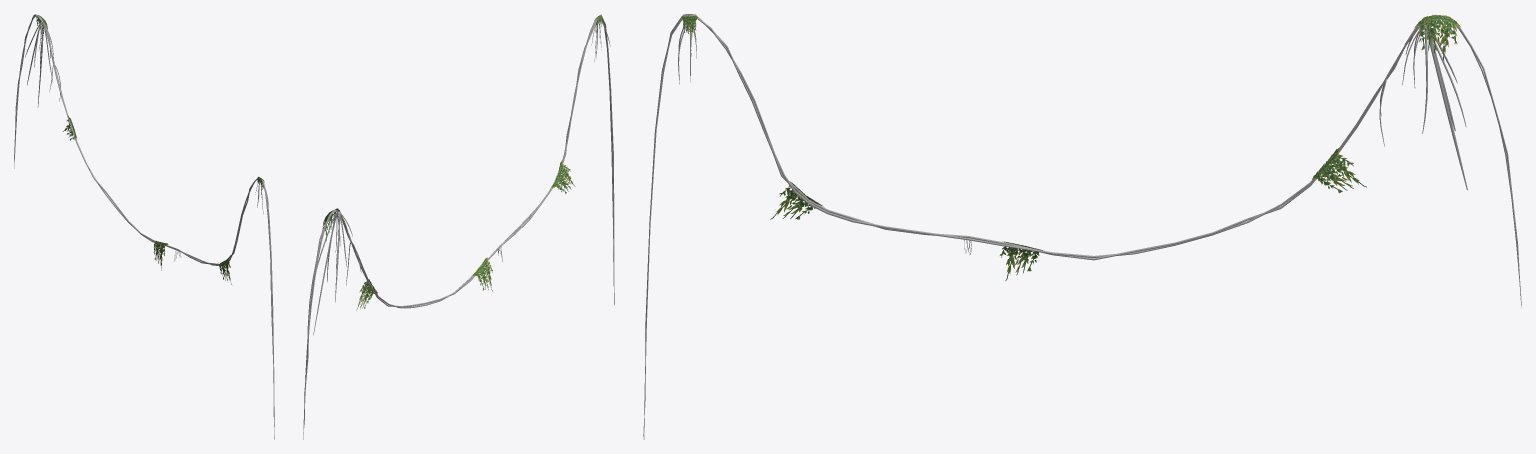
File: LeaflessVine.fbx
3 renders of one model, left to right at view 1: azimuth 30°, elevation 25°; view 2: azimuth 150°, elevation 25°; view 3: azimuth 270°, elevation 25°, orthographic. The views are drawn at different scales.
Visible parts, largest first — view 1: pCylinder3, pCylinder18; view 2: pCylinder3, pCylinder18, pPlane86, pPlane83; view 3: pCylinder3, pCylinder18, pPlane85, pPlane84.
Boxes of the visible parts, x1,y1,x2,y2 form: pCylinder3: [14, 14, 274, 439]; pCylinder18: [25, 22, 60, 107]; pCylinder3: [303, 17, 614, 439]; pCylinder18: [313, 211, 361, 335]; pPlane86: [552, 160, 575, 194]; pPlane83: [473, 257, 492, 291]; pCylinder3: [643, 14, 1521, 439]; pCylinder18: [1379, 22, 1467, 190]; pPlane85: [1414, 14, 1460, 60]; pPlane84: [1312, 147, 1366, 193].
Bounding box in the file's own units: 2.01 × 26.94 × 50.39.
